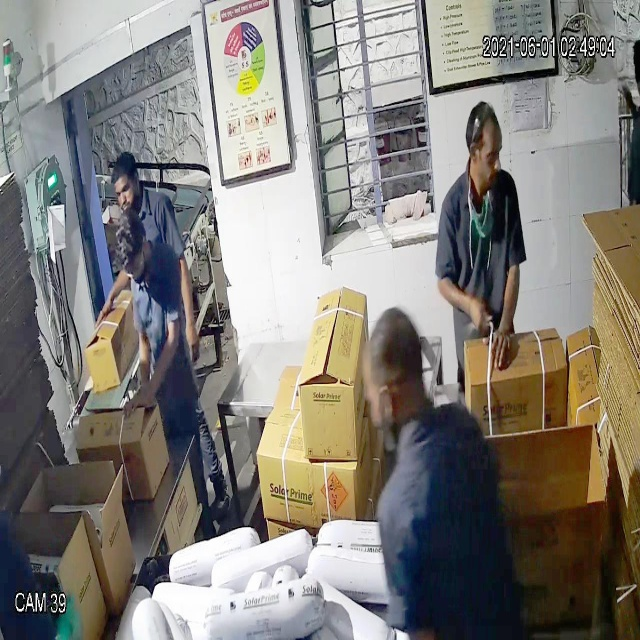Sin_gafas: (467, 138, 507, 173)
